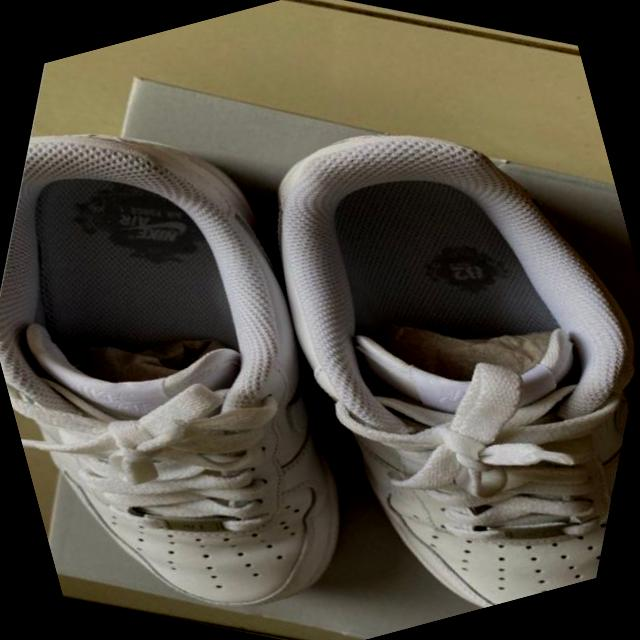nike_original_airforce: (95, 30, 640, 640), (0, 27, 513, 640)
